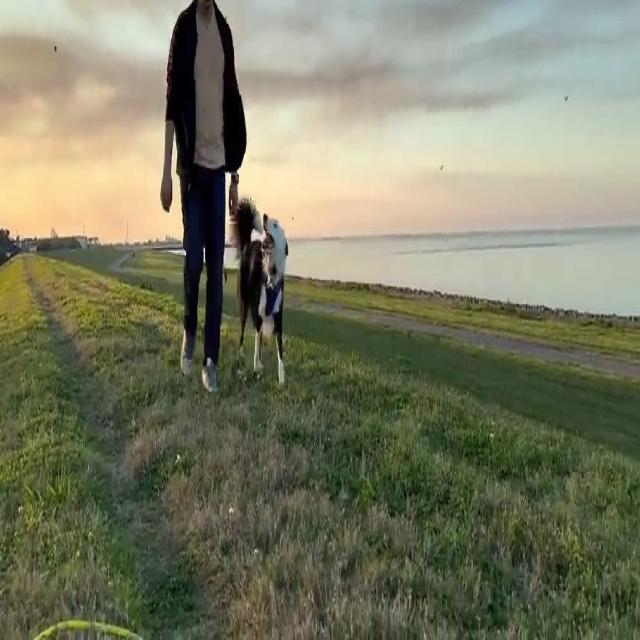Unleashed_Dog: (199, 160, 288, 385)
